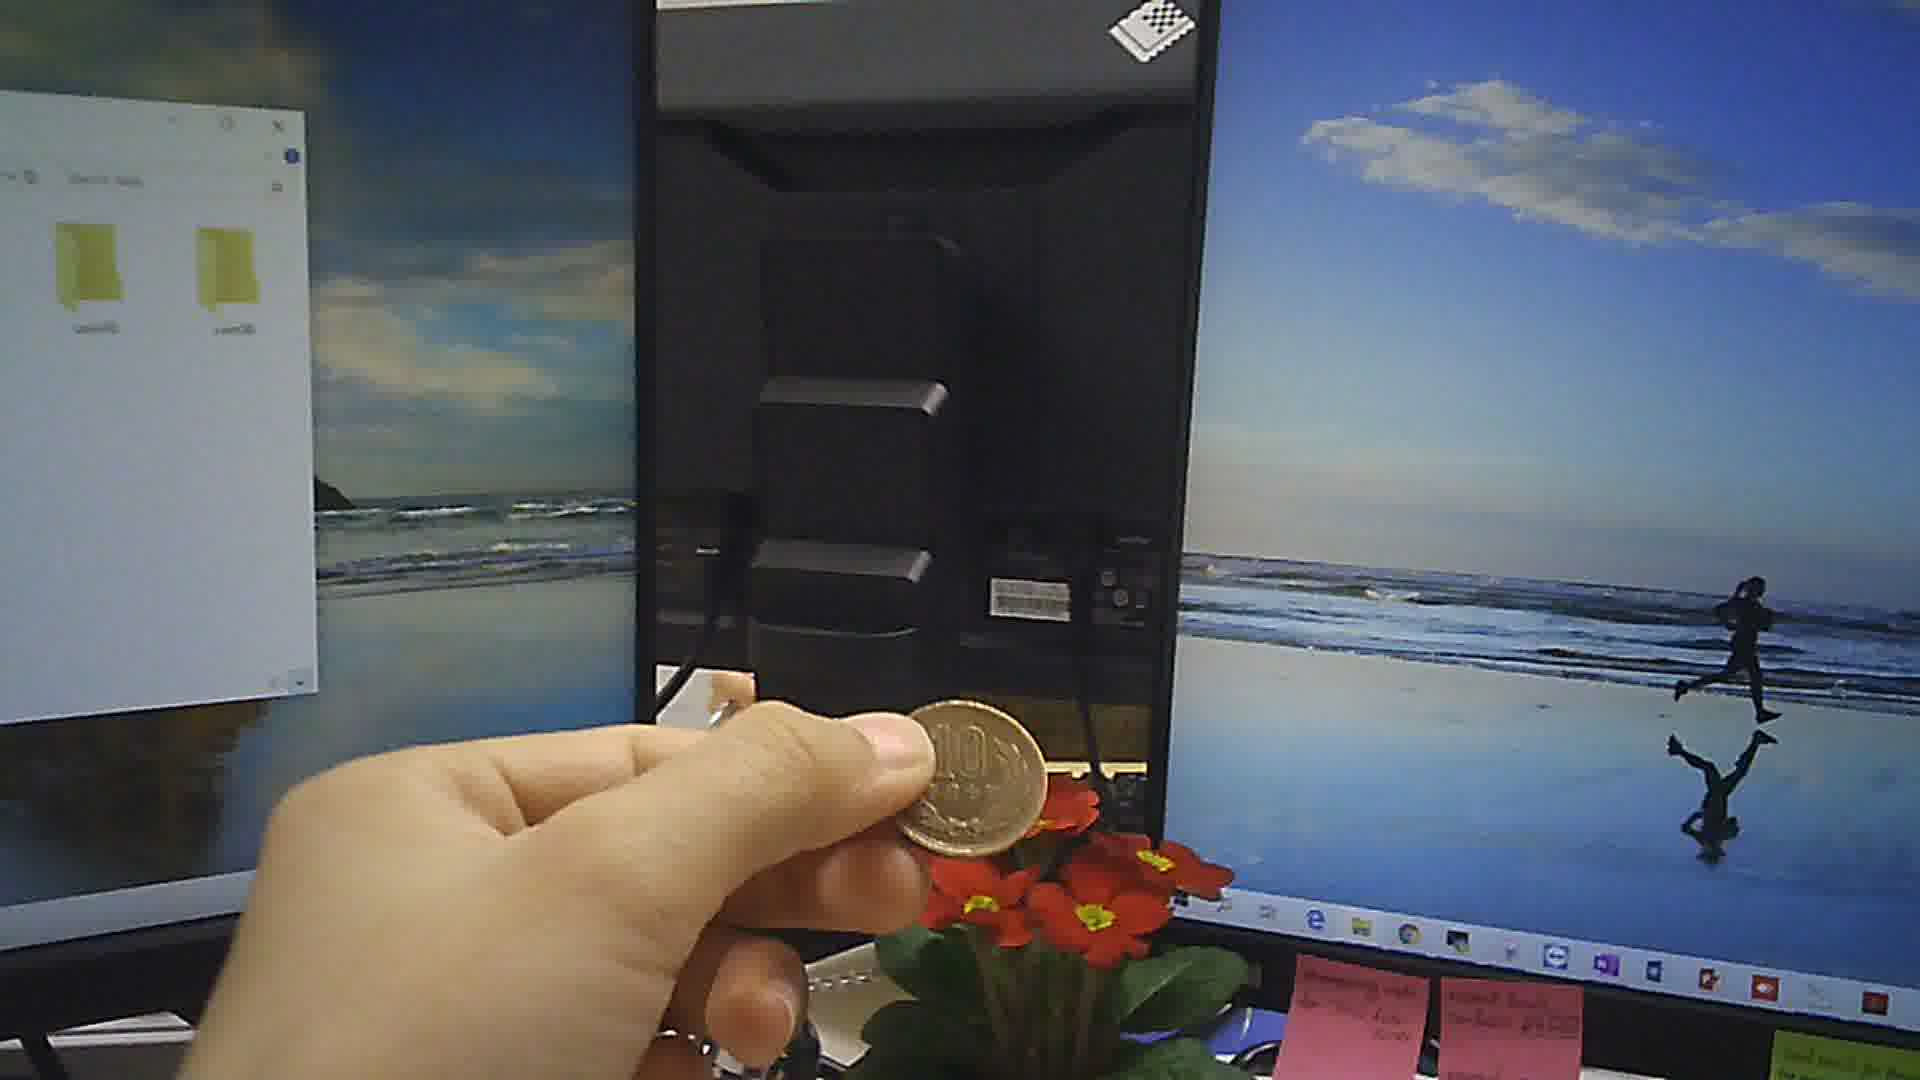10 Yen: (882, 698, 1048, 865)
